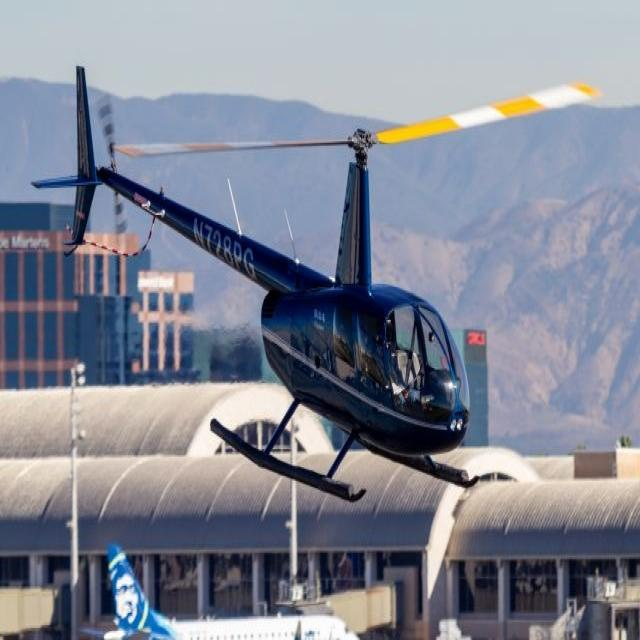CIV_HELO: (31, 63, 480, 508)
